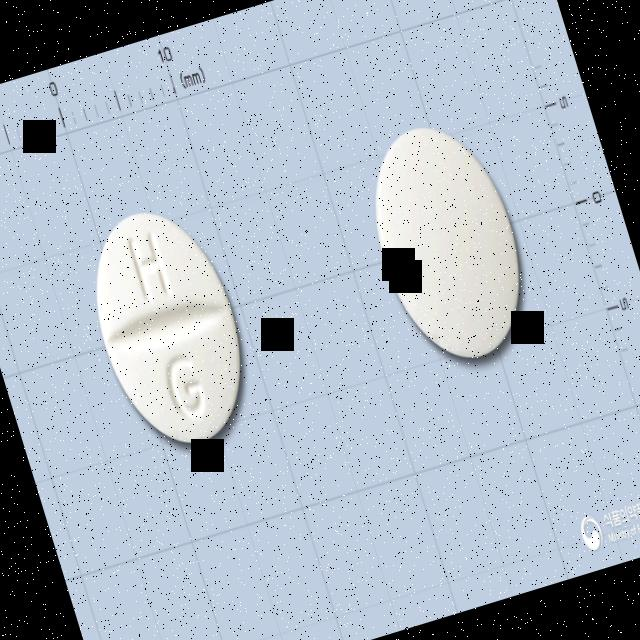Cipoxcin: (64, 186, 276, 474)
